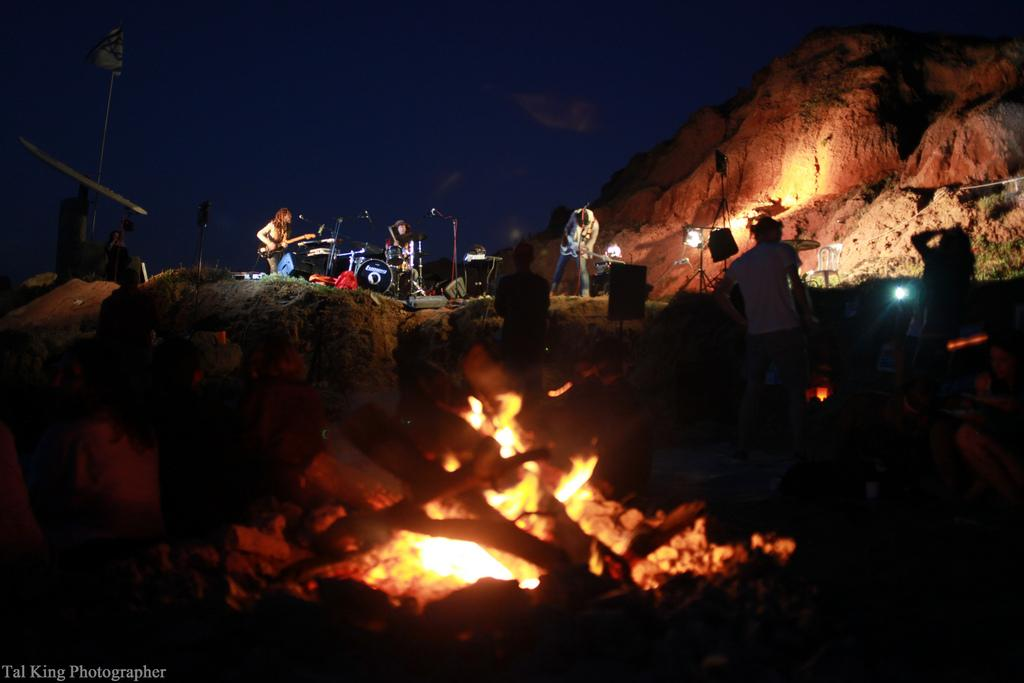fire: (400, 537, 487, 585)
